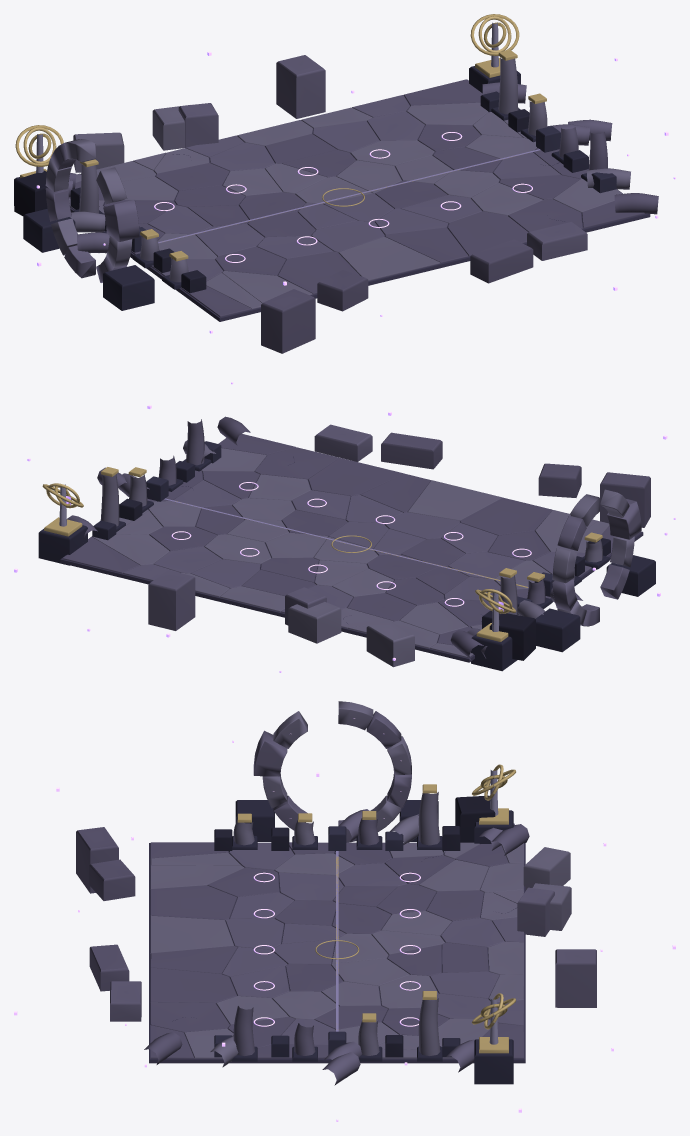
3 renders of one model, top to bottom at view 1: azimuth 30°, elevation 25°; view 2: azimuth 150°, elevation 25°; view 3: azimuth 270°, elevation 25°, orthographic. The views are drawn at different scales.
Visible parts, largest first — view 1: courtyard--stone-pale, boundary-masonry--stone-pale, star-portal--stone-pale, shattered-plinths--stone-pale, boundary-masonry--stone-dark, star-portal--stone-dark, orbital-instruments--trim-brass, courtyard--stone-dark, shattered-plinths--stone-dark, courtyard--emissive, shattered-plinths--trim-brass, orbital-instruments--stone-dark; view 2: courtyard--stone-pale, boundary-masonry--stone-pale, star-portal--stone-pale, shattered-plinths--stone-pale, boundary-masonry--stone-dark, star-portal--stone-dark, orbital-instruments--stone-dark, orbital-instruments--trim-brass, shattered-plinths--stone-dark, courtyard--emissive, shattered-plinths--trim-brass, courtyard--stone-dark (+1 smaller); view 3: courtyard--stone-pale, boundary-masonry--stone-pale, star-portal--stone-pale, shattered-plinths--stone-pale, boundary-masonry--stone-dark, orbital-instruments--trim-brass, orbital-instruments--stone-dark, shattered-plinths--stone-dark, star-portal--stone-dark, shattered-plinths--trim-brass, courtyard--emissive.
Boxes of the visible parts, x1,y1,x2,y2 form: courtyard--stone-pale: [69, 79, 650, 321]; boundary-masonry--stone-pale: [14, 55, 658, 353]; star-portal--stone-pale: [45, 139, 139, 282]; shattered-plinths--stone-pale: [79, 57, 607, 282]; boundary-masonry--stone-dark: [70, 91, 616, 293]; star-portal--stone-dark: [23, 208, 154, 310]; orbital-instruments--trim-brass: [15, 14, 519, 178]; courtyard--stone-dark: [99, 149, 564, 243]; shattered-plinths--stone-dark: [72, 107, 587, 289]; courtyard--emissive: [154, 132, 532, 262]; shattered-plinths--trim-brass: [80, 50, 546, 261]; orbital-instruments--stone-dark: [14, 66, 520, 205]; courtyard--stone-pale: [60, 434, 643, 662]; boundary-masonry--stone-pale: [67, 416, 650, 667]; star-portal--stone-pale: [552, 489, 641, 626]; shattered-plinths--stone-pale: [100, 419, 602, 614]; boundary-masonry--stone-dark: [92, 441, 610, 628]; star-portal--stone-dark: [535, 555, 655, 652]; orbital-instruments--stone-dark: [38, 525, 517, 671]; orbital-instruments--trim-brass: [42, 483, 516, 641]; shattered-plinths--stone-dark: [116, 458, 609, 608]; courtyard--emissive: [171, 482, 531, 606]; shattered-plinths--trim-brass: [101, 467, 602, 581]; courtyard--stone-dark: [164, 456, 528, 623]; courtyard--stone-pale: [149, 842, 525, 1063]; boundary-masonry--stone-pale: [76, 795, 596, 1085]; star-portal--stone-pale: [253, 701, 411, 842]; shattered-plinths--stone-pale: [233, 792, 440, 1055]; boundary-masonry--stone-dark: [214, 826, 460, 1057]; orbital-instruments--trim-brass: [471, 764, 516, 1053]; orbital-instruments--stone-dark: [474, 810, 513, 1084]; shattered-plinths--stone-dark: [232, 836, 442, 1061]; star-portal--stone-dark: [235, 800, 438, 841]; shattered-plinths--trim-brass: [237, 784, 436, 1022]; courtyard--emissive: [253, 872, 420, 1026].
Size of the model in its own units: 20.79 by 4.54 by 18.59.
